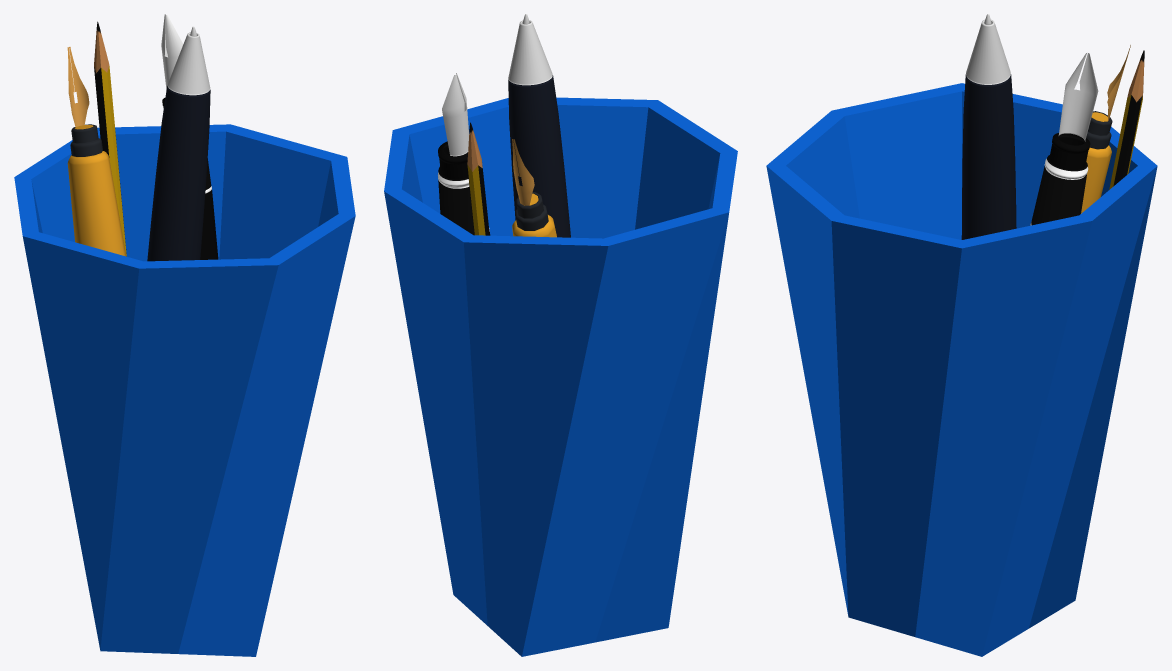
The model's file is Pen stand.glb.
The picture shows the model from 3 angles, left to right: view 1: azimuth 30°, elevation 25°; view 2: azimuth 150°, elevation 25°; view 3: azimuth 270°, elevation 25°; orthographic projection. The views are drawn at different scales.
Visible parts, largest first — view 1: Cube.043; view 2: Cube.043; view 3: Cube.043.
Boxes of the visible parts, bbox=[...] form: Cube.043: bbox=[14, 14, 355, 656]; Cube.043: bbox=[384, 14, 737, 656]; Cube.043: bbox=[766, 14, 1157, 656].
Size of the model in its own units: 4.8 by 8.2 by 4.8.
11 materials, 1 textured.
